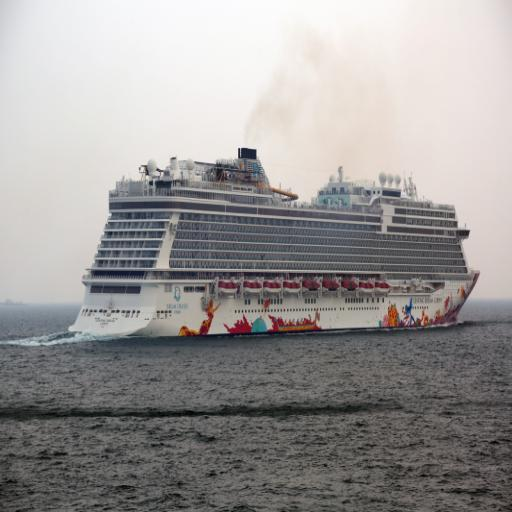cruises: (69, 124, 481, 341)
